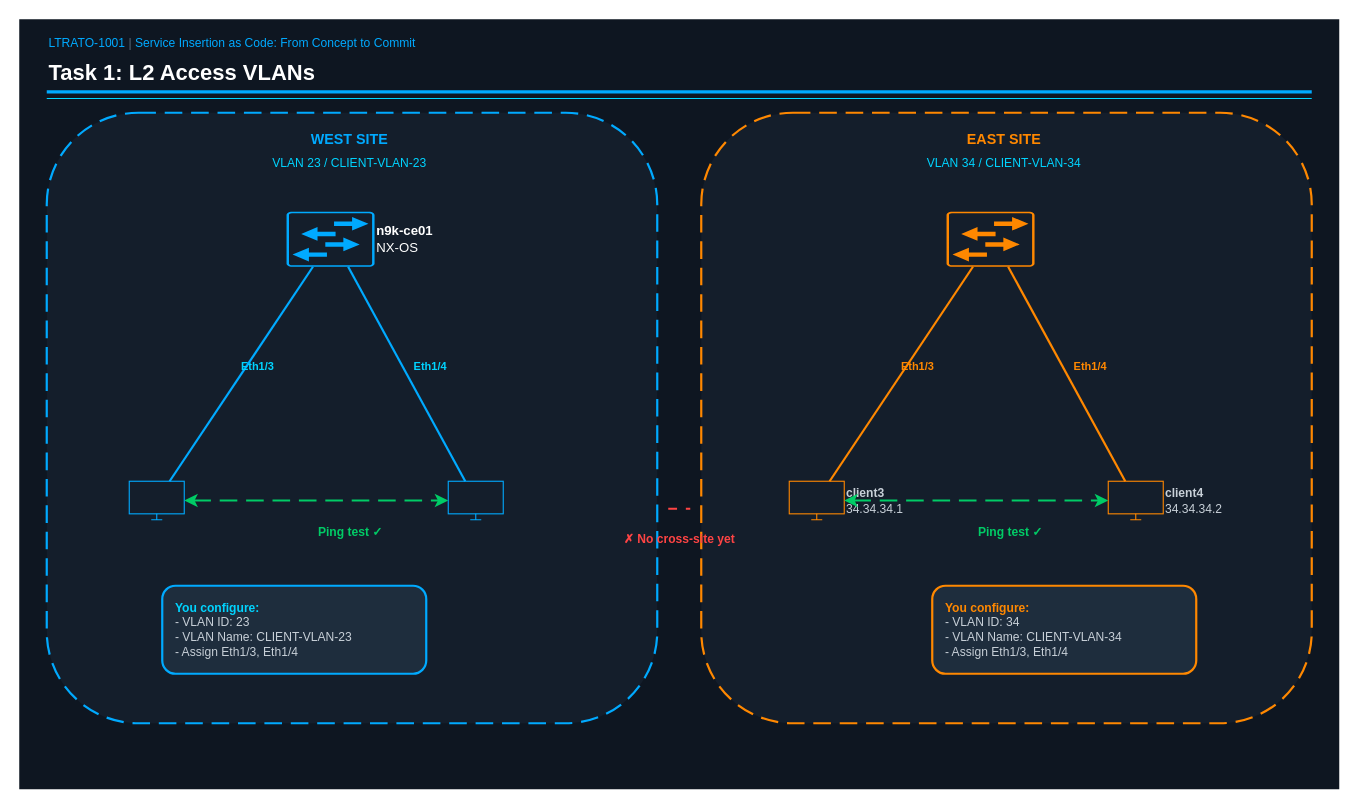
Image size: 1357x807. Some labels were removed from this diagram. Each missing label, with the centre of its shape:
client1 23.23.23.1: the point at 156,500
client2 23.23.23.2: the point at 475,500
n9k-ce02 NX-OS: the point at 990,239
